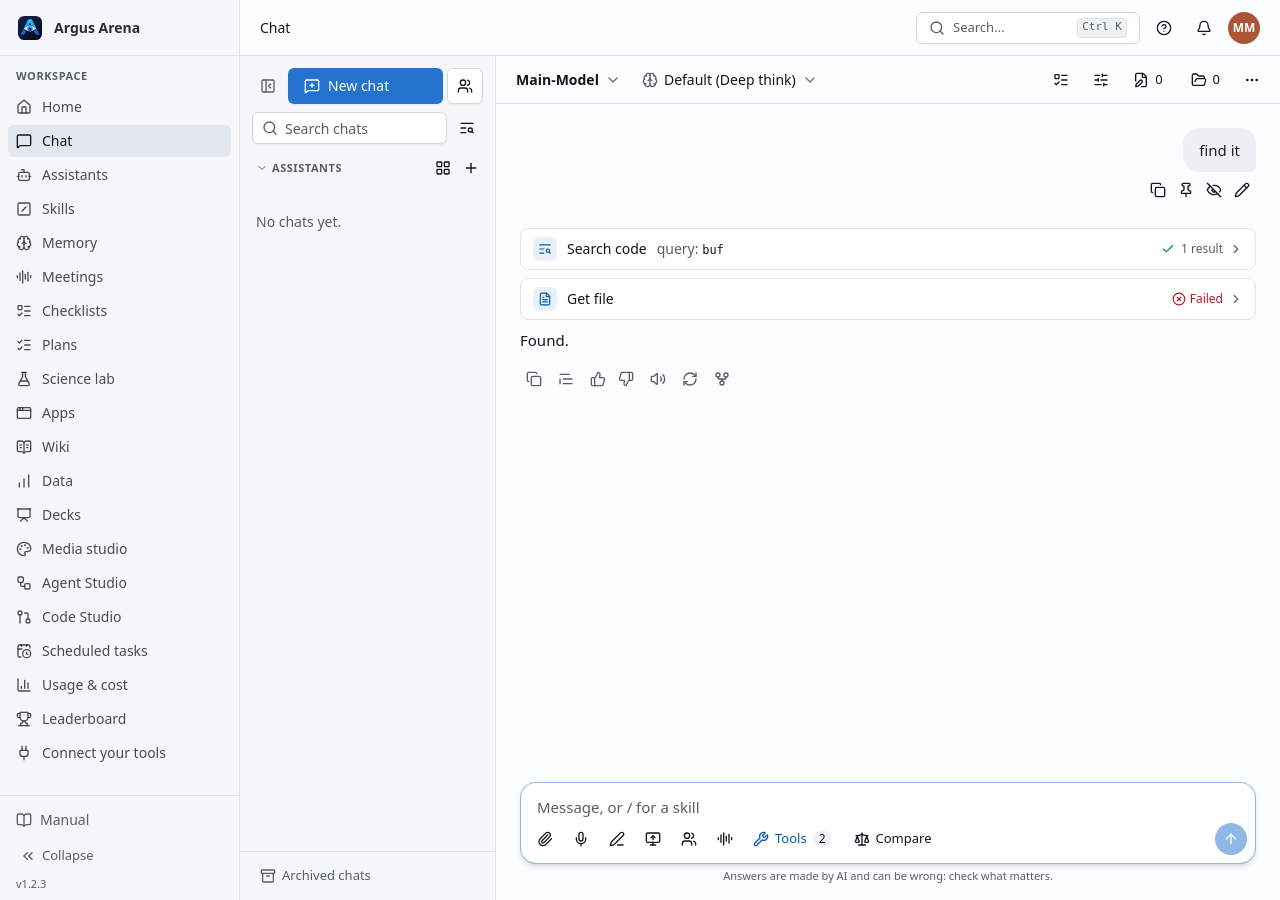
Test: chat › a tool's error stays its own words, and without a GitLab address nothing links
Click the button "Search code query: buf 1 result". click: (607, 249)
box: [521,229,1255,269]
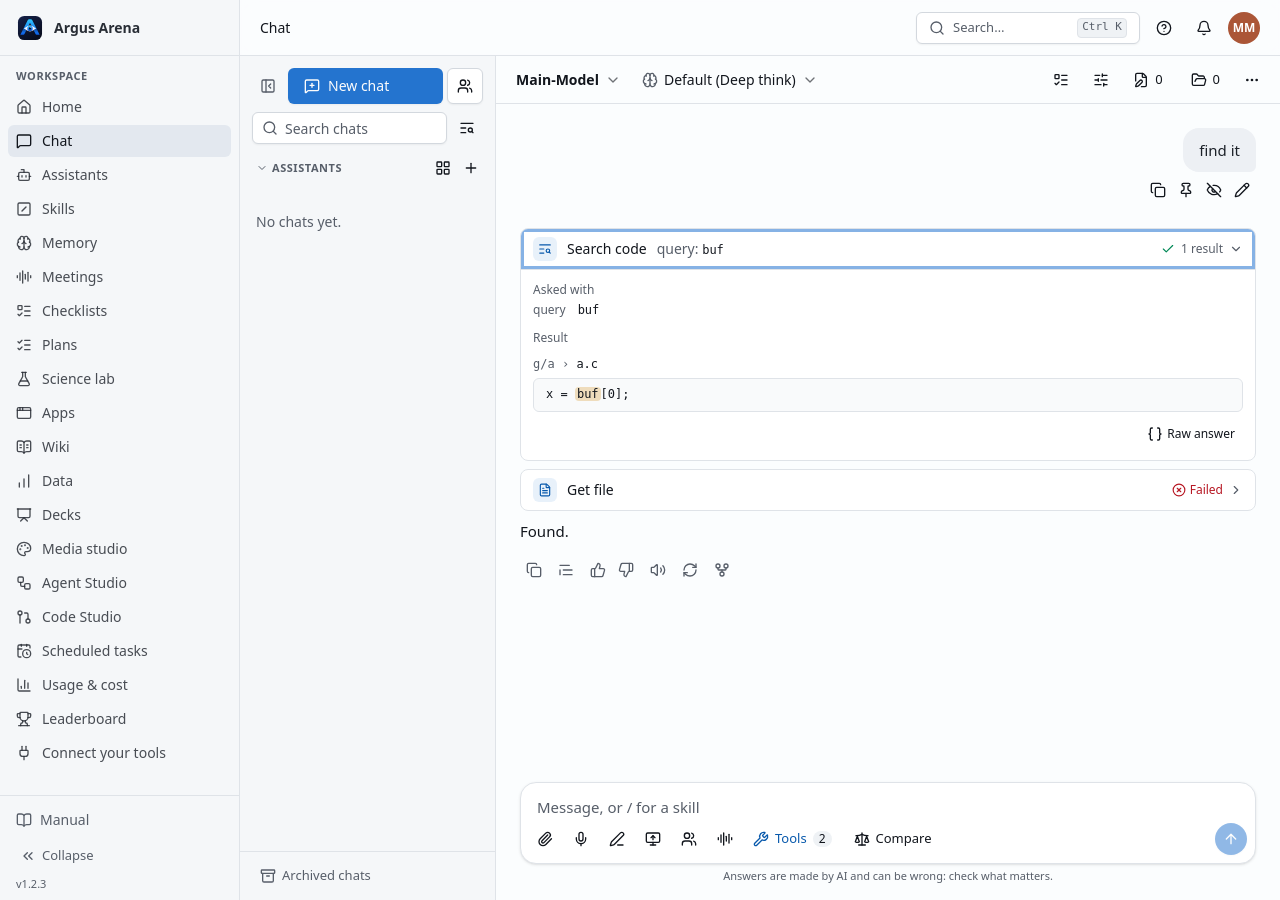
Expected: the text "buf" next to "x =" is shown, [577,387,599,401]
Expected: the list named "Places in the code" shows "x = buf[0];", [533,350,1243,412]
Click the button "Get file Failed". click: (590, 489)
box: [521,470,1255,510]
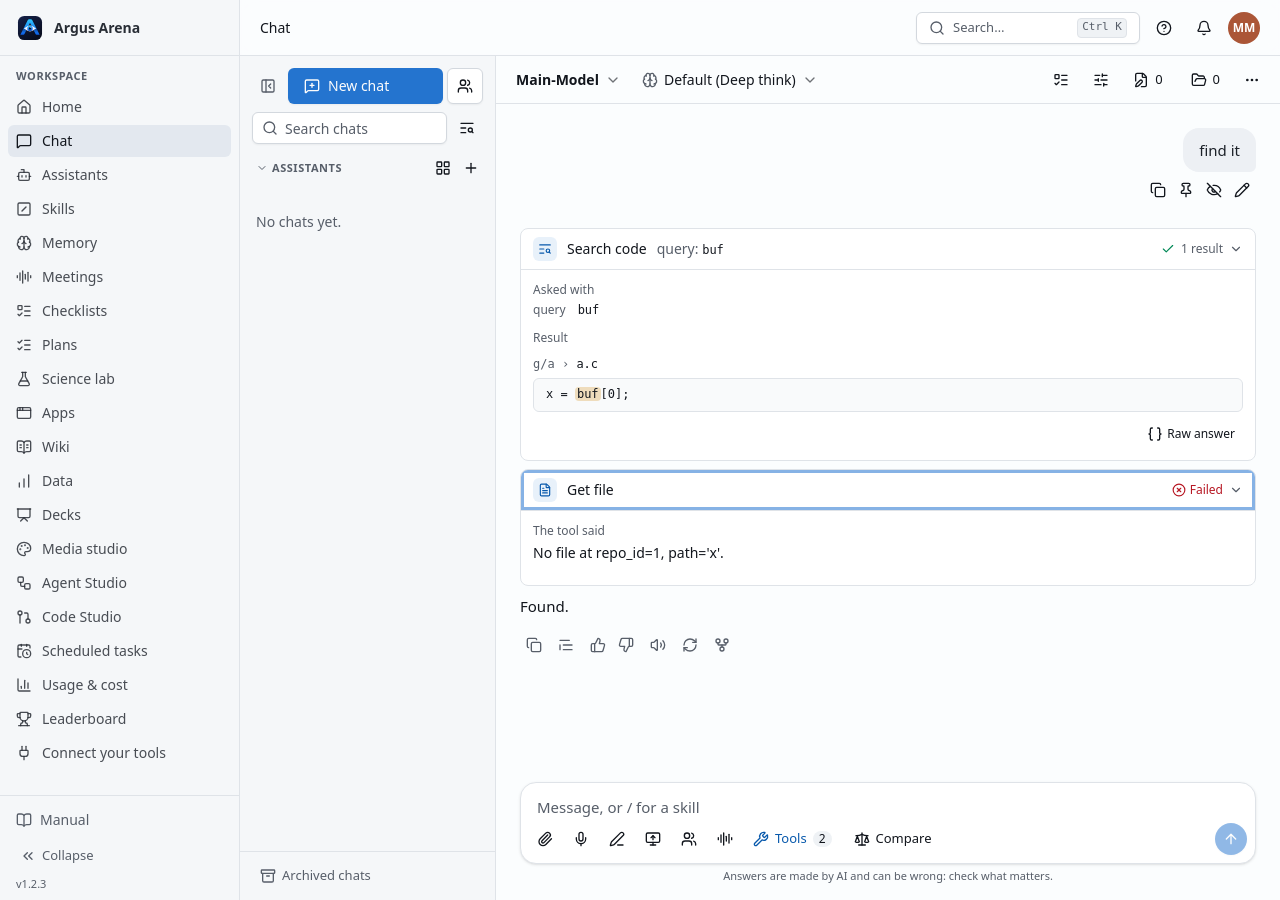
Expected: the text "No file at repo_id=1, path='x'." is shown, [533,543,724,562]
